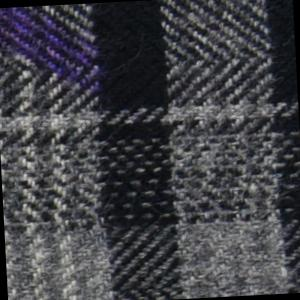Stain: (1, 3, 118, 109)
